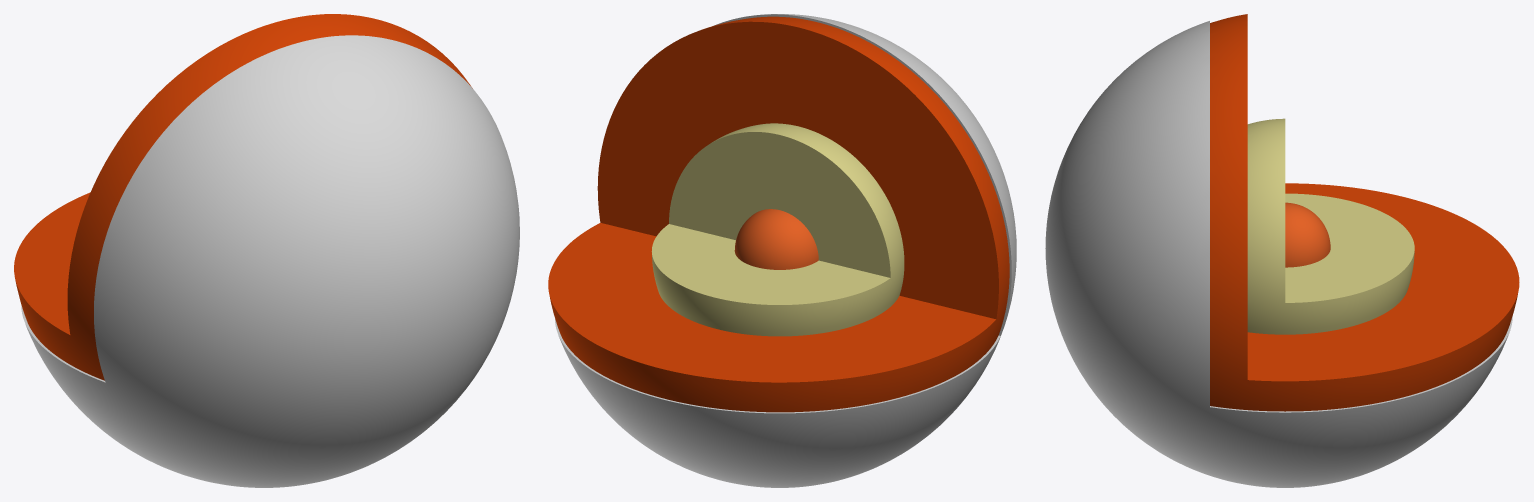
The model's file is RockPlanet.fbx.
3 renders of one model, left to right at view 1: azimuth 30°, elevation 25°; view 2: azimuth 150°, elevation 25°; view 3: azimuth 270°, elevation 25°, orthographic. The views are drawn at different scales.
Visible parts, largest first — view 1: Earth, EarthMantle; view 2: EarthMantle, EarthExternalCore, Earth, EarthInnerCore; view 3: Earth, EarthMantle, EarthExternalCore, EarthInnerCore.
Boxes of the visible parts, x1,y1,x2,y2 form: Earth: (21, 35, 519, 487); EarthMantle: (14, 14, 472, 380); EarthMantle: (548, 16, 1009, 412); EarthExternalCore: (651, 123, 904, 336); Earth: (555, 14, 1016, 487); EarthInnerCore: (734, 209, 818, 269); Earth: (1045, 21, 1512, 487); EarthMantle: (1210, 14, 1519, 411); EarthExternalCore: (1247, 118, 1414, 334); EarthInnerCore: (1285, 202, 1330, 267).
Size of the model in its own units: 125 by 126 by 126.
